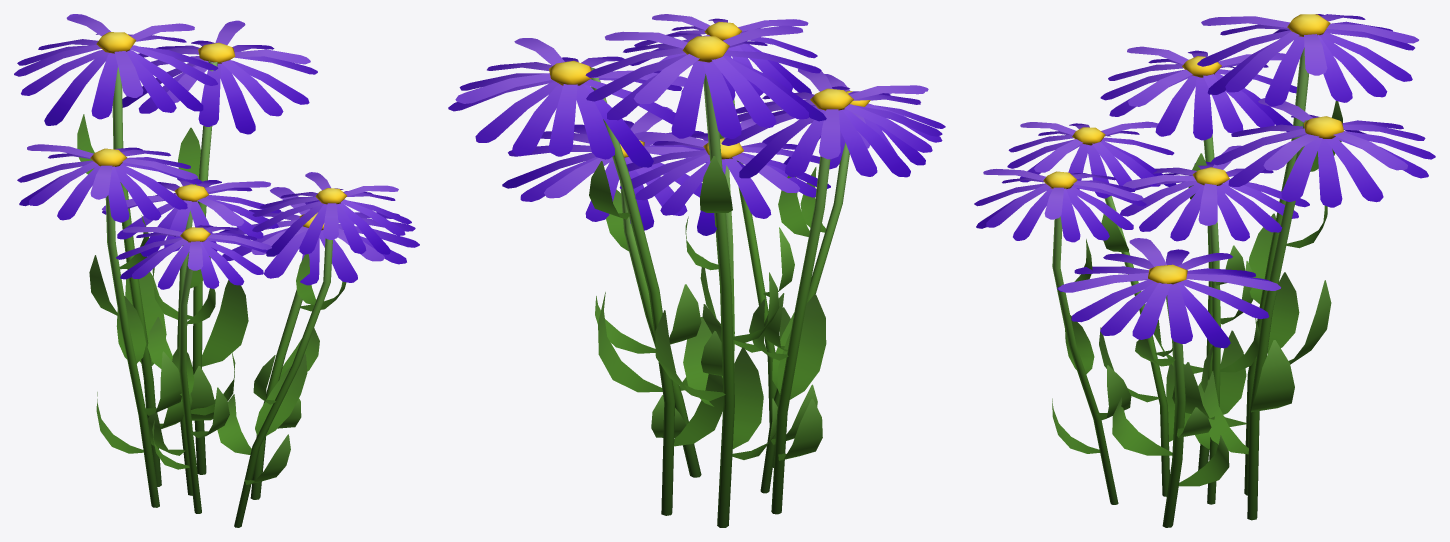
Rendered from flower (4).fbx.
The picture shows the model from 3 angles, left to right: view 1: azimuth 30°, elevation 25°; view 2: azimuth 150°, elevation 25°; view 3: azimuth 270°, elevation 25°; orthographic projection. The views are drawn at different scales.
Visible parts, largest first — view 1: 03_Aster; view 2: 03_Aster; view 3: 03_Aster.
Boxes of the visible parts, left/top/right/bottom form: 03_Aster: left=14, top=14, right=419, bottom=527; 03_Aster: left=448, top=14, right=945, bottom=527; 03_Aster: left=974, top=14, right=1435, bottom=527.
Size of the model in its own units: 92.59 by 106 by 94.02.
